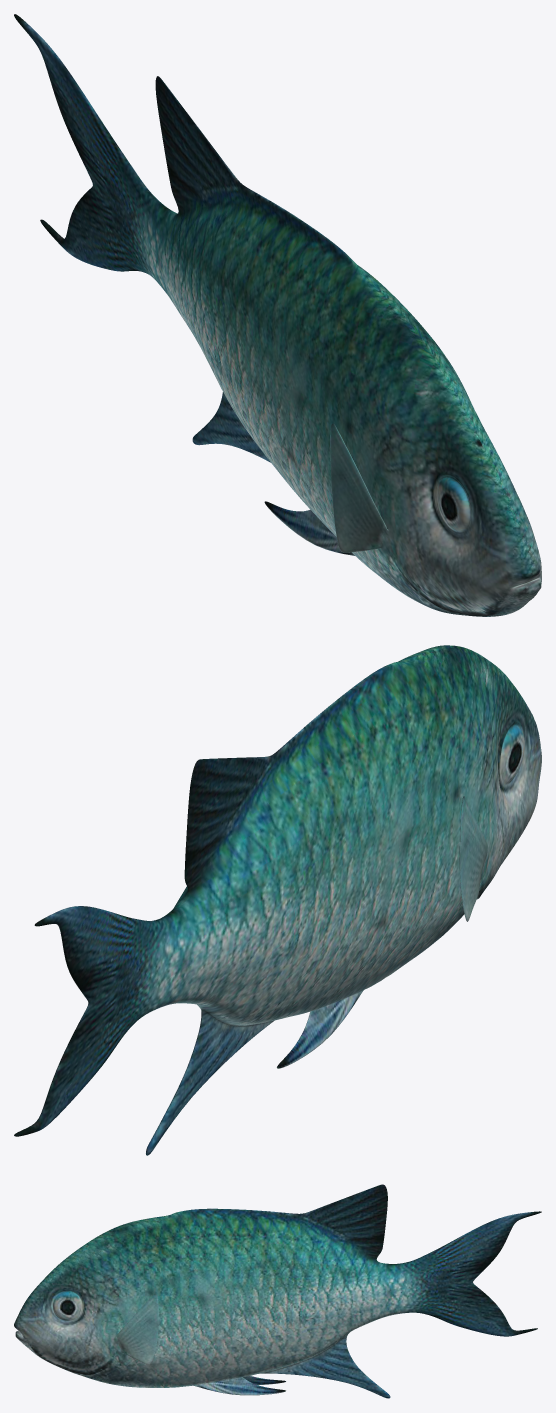
Rendered from 13007_Blue-Green_Reef_Chromis_v2_l3.obj.
The picture shows the model from 3 angles, top to bottom: view 1: azimuth 30°, elevation 25°; view 2: azimuth 150°, elevation 25°; view 3: azimuth 270°, elevation 25°; orthographic projection. The views are drawn at different scales.
Parts seen in each view (by area): view 1: 13007_Blue-Green_Reef_Chromis_v2_l3; view 2: 13007_Blue-Green_Reef_Chromis_v2_l3; view 3: 13007_Blue-Green_Reef_Chromis_v2_l3.
Part boxes in pixels (x1,y1,x2,y2): 13007_Blue-Green_Reef_Chromis_v2_l3: (14,14,541,616); 13007_Blue-Green_Reef_Chromis_v2_l3: (14,645,541,1155); 13007_Blue-Green_Reef_Chromis_v2_l3: (14,1184,541,1398).
Size of the model in its own units: 1.26 by 3.24 by 7.63.
